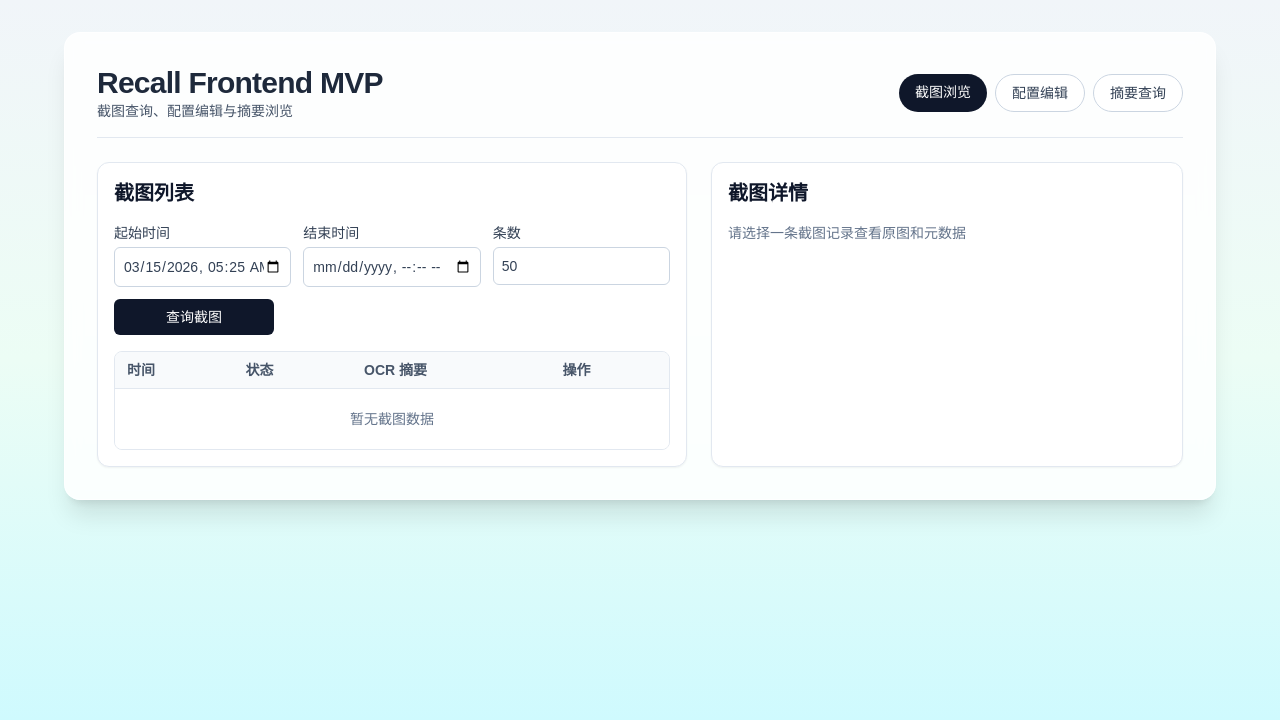
it: App › submits updated config values
The image size is (1280, 720).
Click the link "配置编辑" at (1040, 93), box top-left (995, 74), bottom-right (1085, 112)
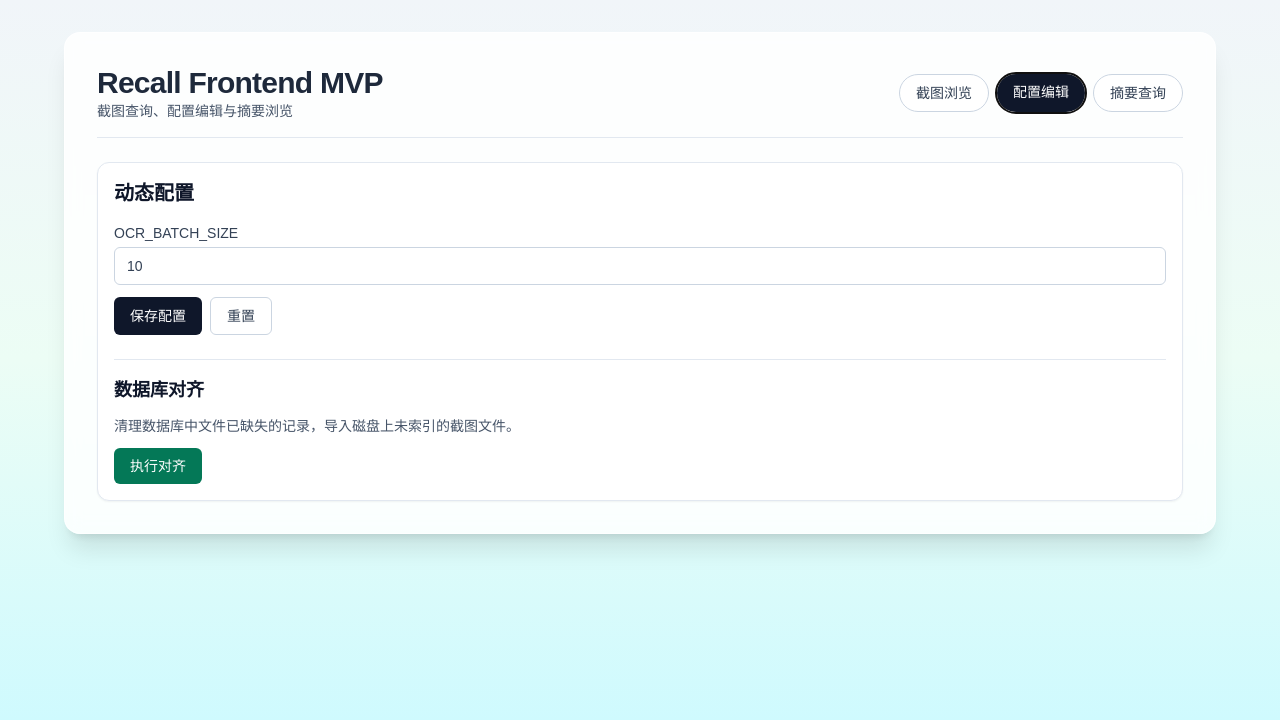
Replace the text in the field showing "10" with "12" at (640, 266), box top-left (114, 247), bottom-right (1166, 285)
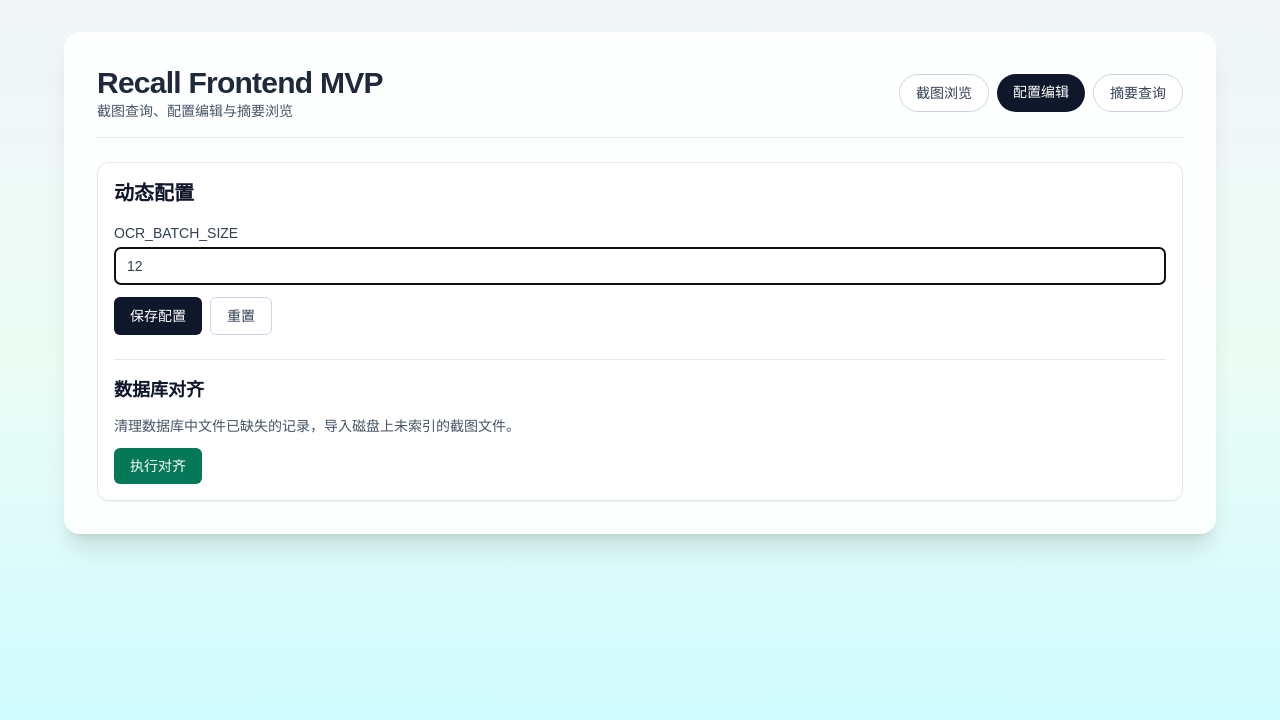
Click the button "保存配置" at (158, 316), box top-left (114, 297), bottom-right (202, 335)
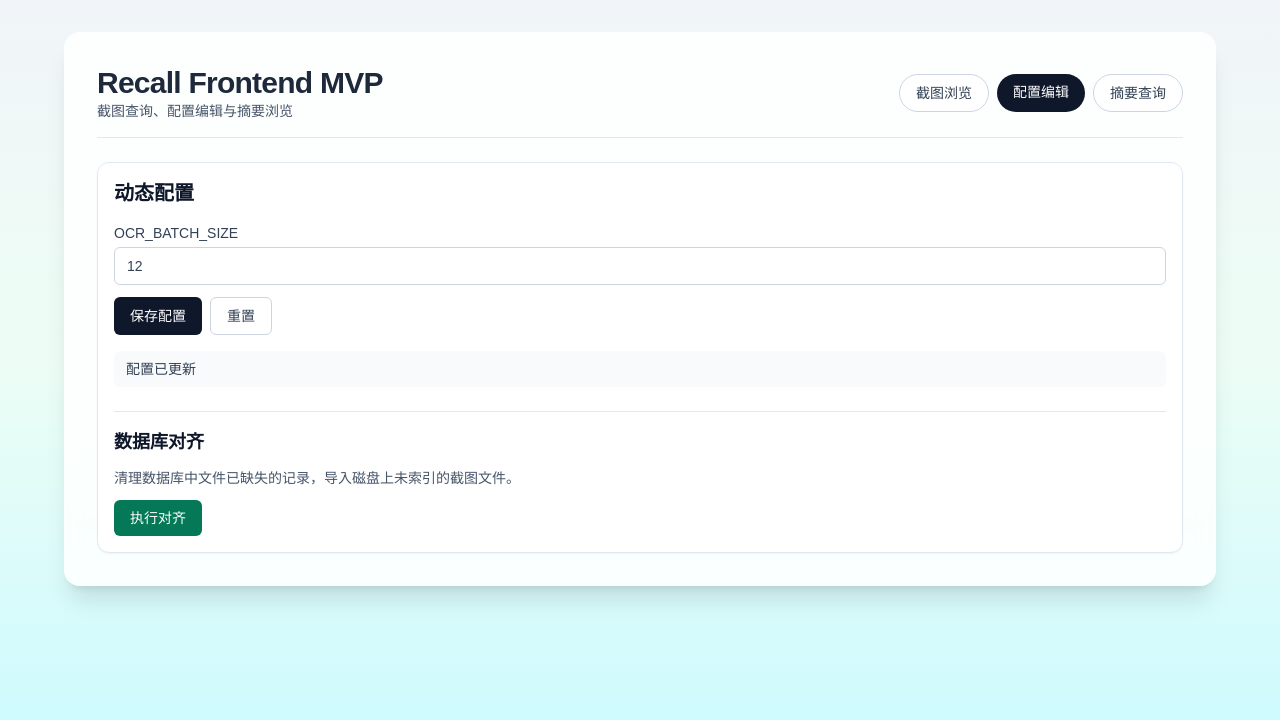
Expected: the text "配置已更新" is shown, top-left (114, 351), bottom-right (1166, 387)
